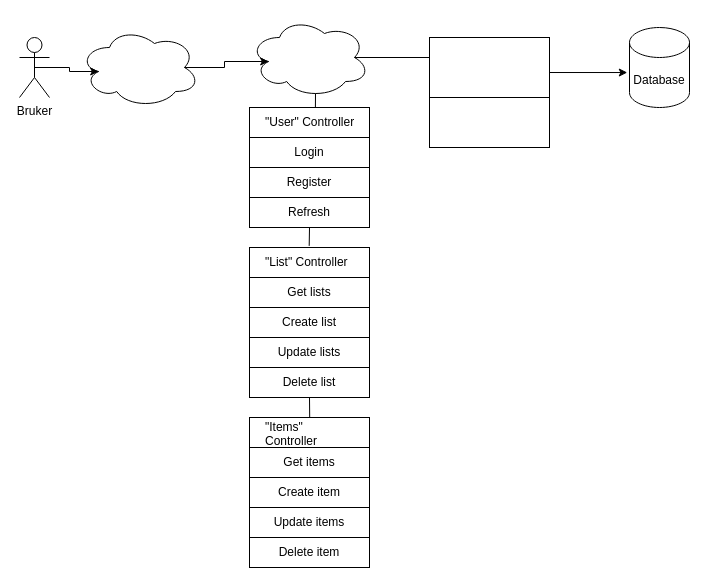
This 707x585 diagram has some shape labels left out. The centre of each missing label's shape, as x and y in pixels:
Forsterker prinsipper om ansvar og eierskap.: [489,122]
Kommunikasjon, eksklusivt via Stored Procedures.: [489,67]
Web Api: [309,57]
Web App: [139,67]
